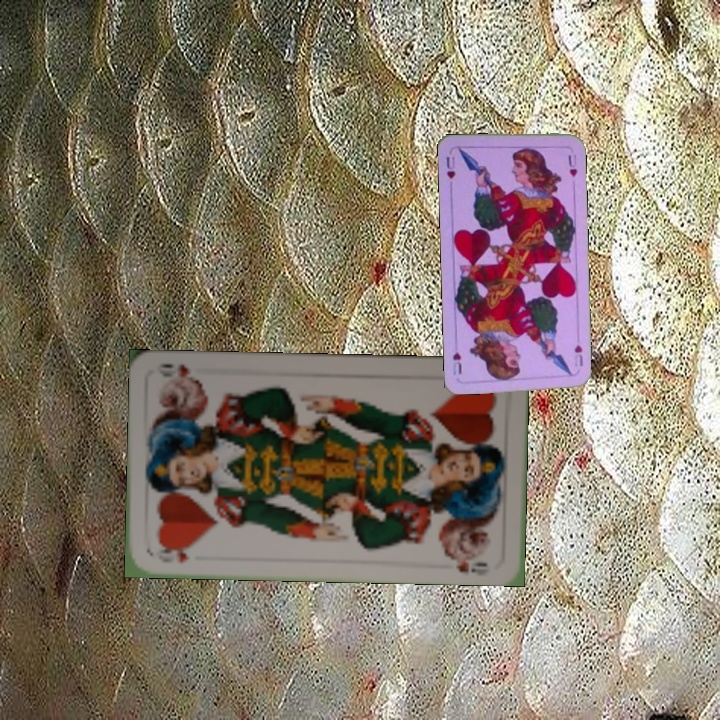HO: (152, 543, 196, 565)
HU: (442, 150, 458, 181), (570, 341, 585, 369)
